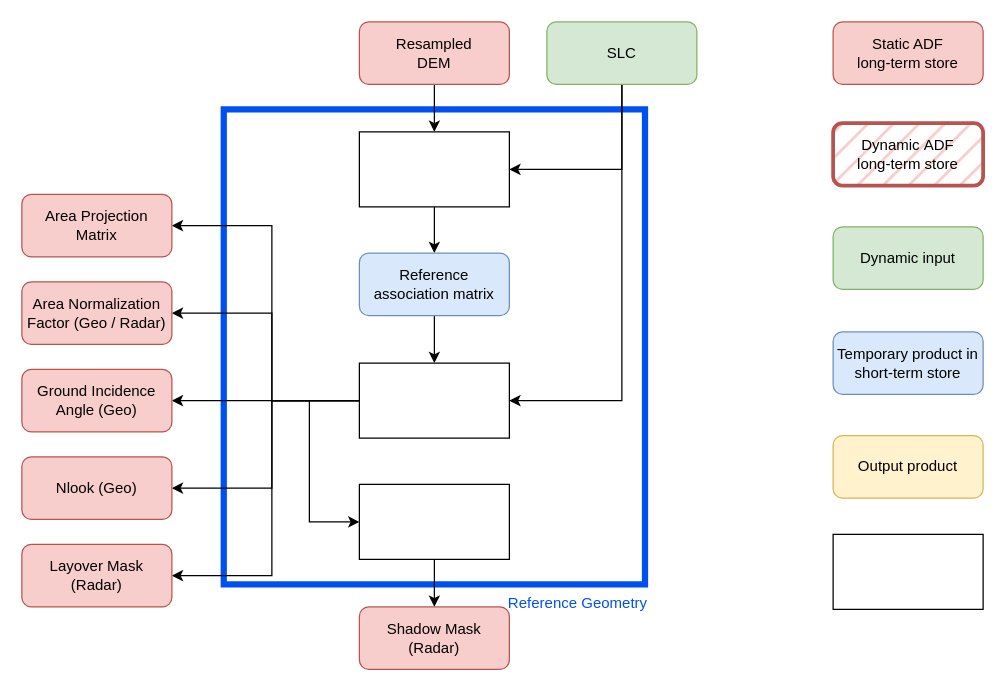
The diagram is 1006 pixels wide and 691 high, and some of its shapes have lost their labels. The box of each missing label's shape, as (x1, y1, x2, y2) in pixels:
Coordinates conversion: (358, 131, 509, 207)
Processing block: (832, 533, 983, 609)
Radar Mapping: (358, 483, 509, 559)
Radar Rasterization: (358, 362, 509, 438)
